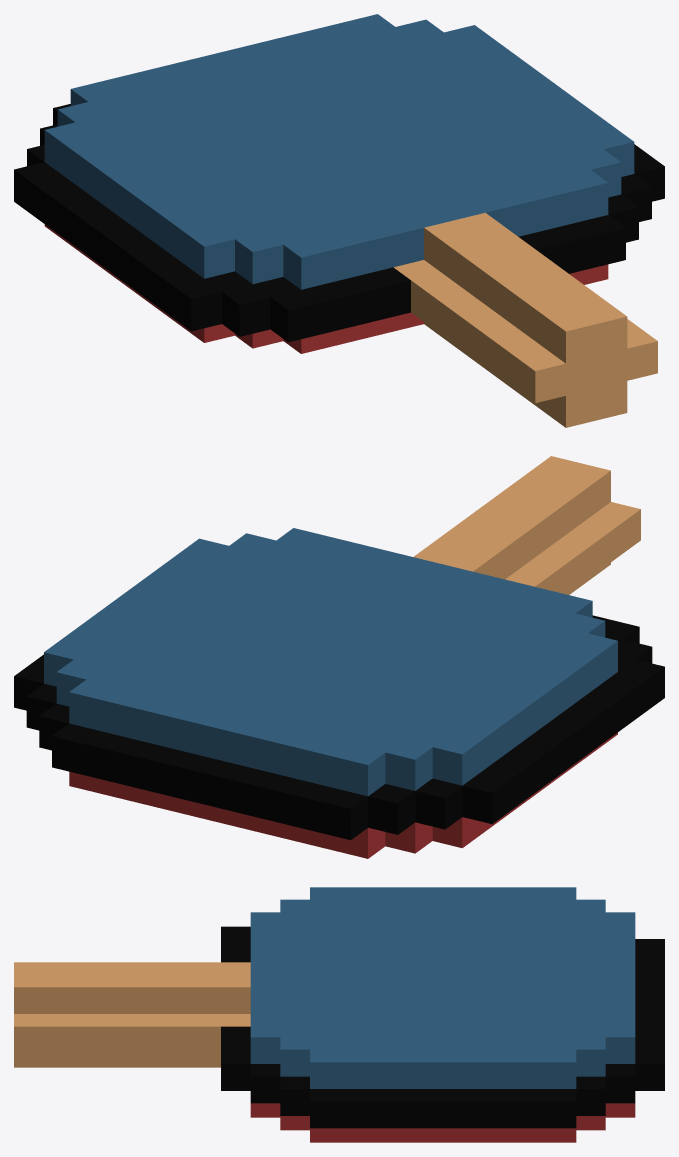
File: pong.gltf
The picture shows the model from 3 angles, top to bottom: view 1: azimuth 30°, elevation 25°; view 2: azimuth 150°, elevation 25°; view 3: azimuth 270°, elevation 25°; orthographic projection. The views are drawn at different scales.
Size of the model in its own units: 16 by 3 by 22.
Materials: 1 (1 with a texture image).
